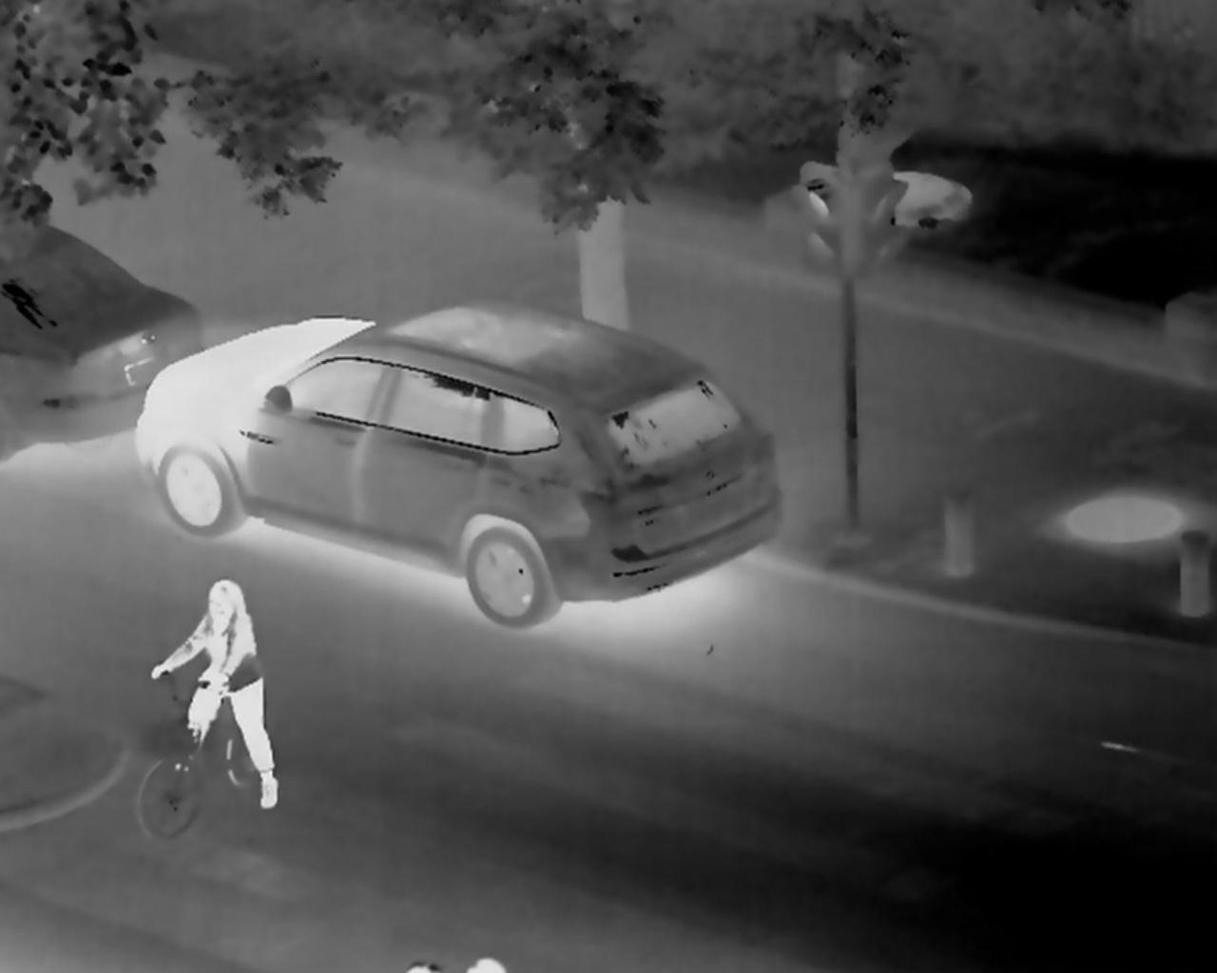person: (144, 570, 284, 809)
